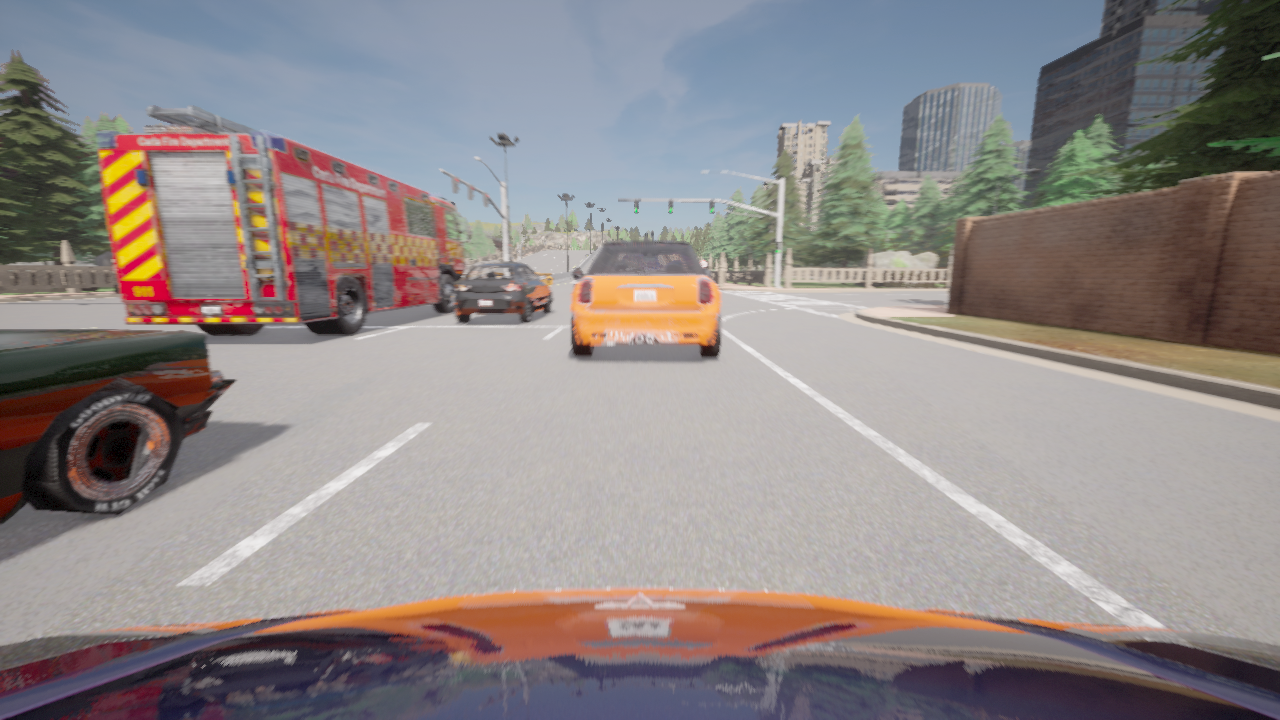cyclist: (0, 588, 1279, 719), (96, 106, 468, 334), (570, 232, 721, 358), (454, 263, 553, 323), (572, 274, 582, 286)
pedestrian: (115, 285, 117, 292)
